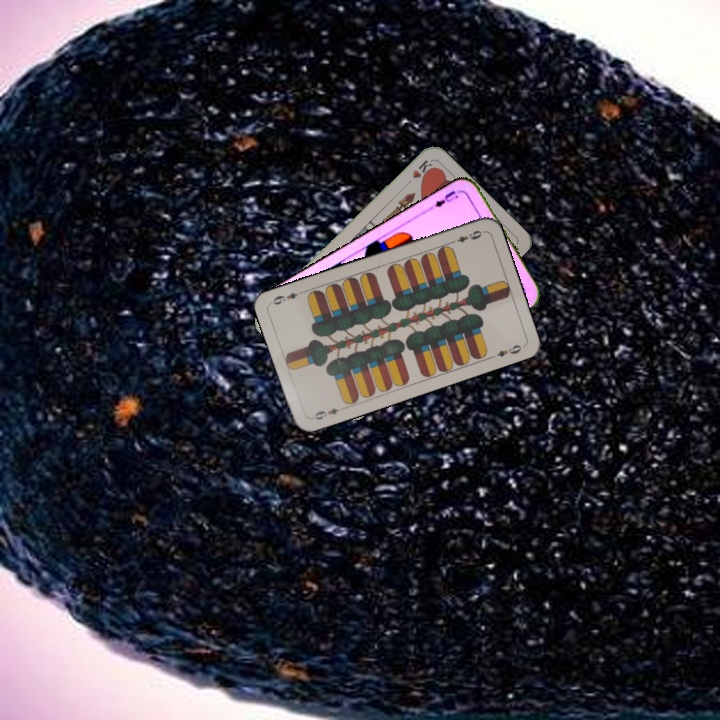E9: (446, 226, 484, 246), (307, 403, 347, 422)
EU: (426, 186, 463, 212)
HK: (401, 156, 435, 189)
